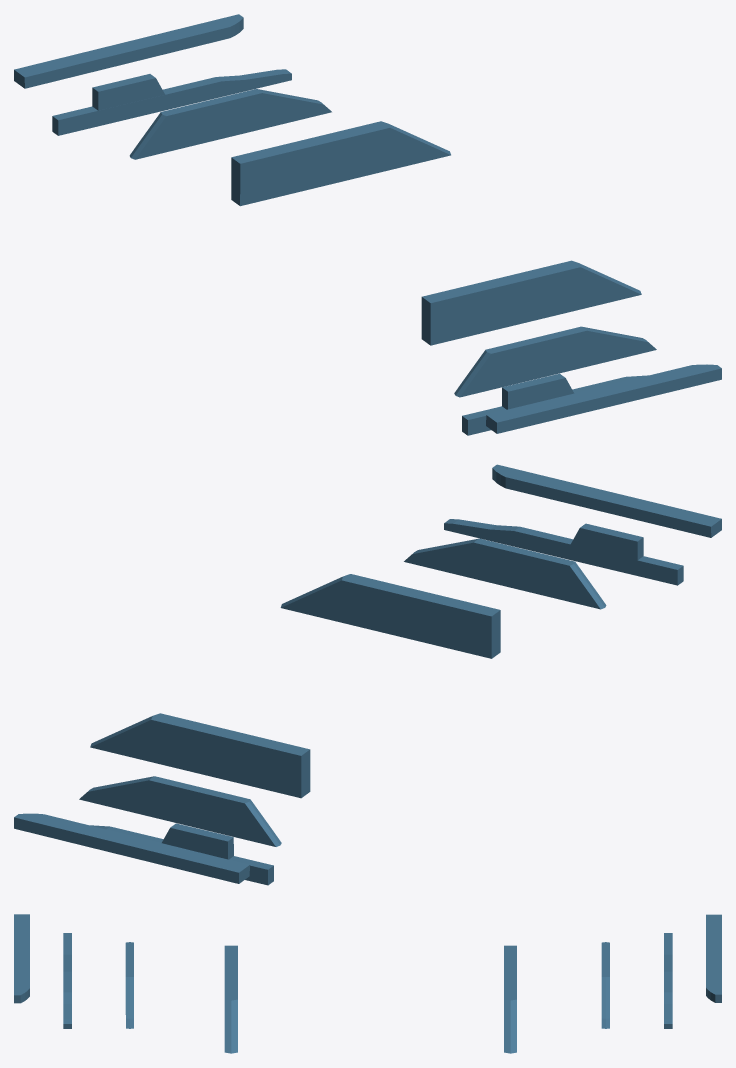
3 renders of one model, top to bottom at view 1: azimuth 30°, elevation 25°; view 2: azimuth 150°, elevation 25°; view 3: azimuth 270°, elevation 25°, orthographic. The views are drawn at different scales.
Parts seen in each view (by area): view 1: 立方体.006, 立方体.014, 立方体.003, 立方体.011, 立方体.002, 立方体.007, 立方体.012, 立方体.013, 立方体.004, 立方体.005; view 2: 立方体.014, 立方体.006, 立方体.003, 立方体.011, 立方体.007, 立方体.002, 立方体.005, 立方体.004, 立方体.013, 立方体.012; view 3: 立方体.006, 立方体.014, 立方体.002, 立方体.007, 立方体.011, 立方体.003, 立方体.005, 立方体.012, 立方体.004, 立方体.013.
Boxes of the visible parts, bbox=[...] form: 立方体.006: bbox=[421, 260, 641, 345]; 立方体.014: bbox=[231, 121, 450, 206]; 立方体.003: bbox=[454, 326, 656, 397]; 立方体.011: bbox=[129, 89, 331, 159]; 立方体.002: bbox=[486, 364, 721, 433]; 立方体.007: bbox=[14, 14, 243, 88]; 立方体.012: bbox=[52, 69, 291, 135]; 立方体.013: bbox=[92, 74, 164, 110]; 立方体.004: bbox=[502, 373, 574, 409]; 立方体.005: bbox=[462, 375, 648, 435]; 立方体.014: bbox=[90, 713, 310, 798]; 立方体.006: bbox=[280, 574, 500, 658]; 立方体.003: bbox=[404, 538, 606, 609]; 立方体.011: bbox=[79, 776, 281, 846]; 立方体.007: bbox=[14, 813, 249, 883]; 立方体.002: bbox=[492, 464, 721, 537]; 立方体.005: bbox=[444, 519, 683, 585]; 立方体.004: bbox=[570, 523, 643, 561]; 立方体.013: bbox=[162, 823, 233, 859]; 立方体.012: bbox=[90, 825, 273, 885]; 立方体.006: bbox=[224, 945, 237, 1053]; 立方体.014: bbox=[504, 945, 516, 1053]; 立方体.002: bbox=[14, 914, 29, 1003]; 立方体.007: bbox=[706, 914, 721, 1002]; 立方体.011: bbox=[601, 942, 609, 1028]; 立方体.003: bbox=[125, 942, 133, 1028]; 立方体.005: bbox=[63, 933, 71, 1028]; 立方体.012: bbox=[664, 933, 672, 1028]; 立方体.004: bbox=[63, 933, 71, 971]; 立方体.013: bbox=[664, 933, 672, 971].
Bounding box in the file's own units: 3.75 × 0.5886 × 10.76.
